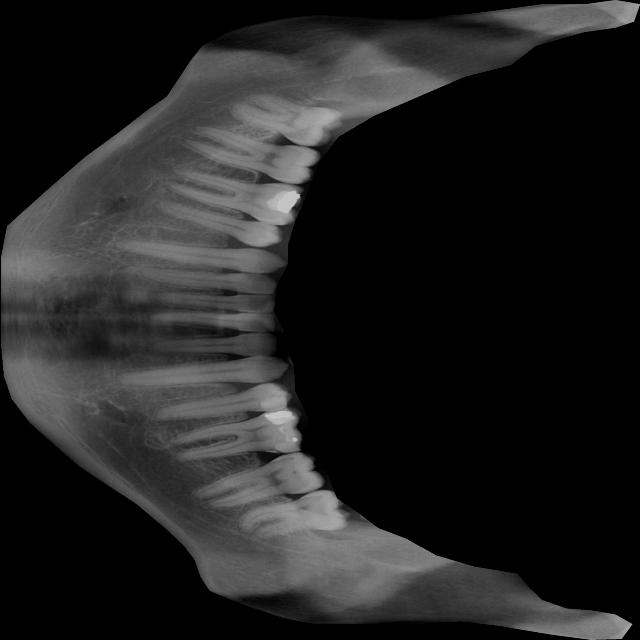mandibula: (0, 0, 639, 640)
